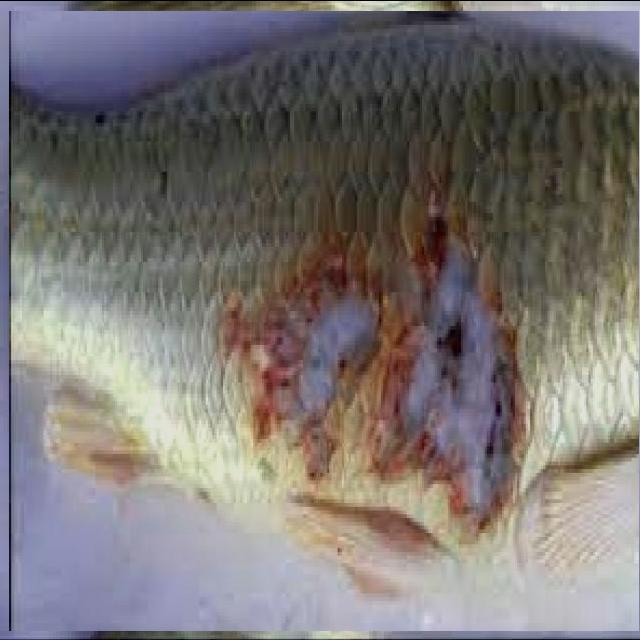EUS Disease: (14, 5, 640, 636), (160, 41, 601, 481)
